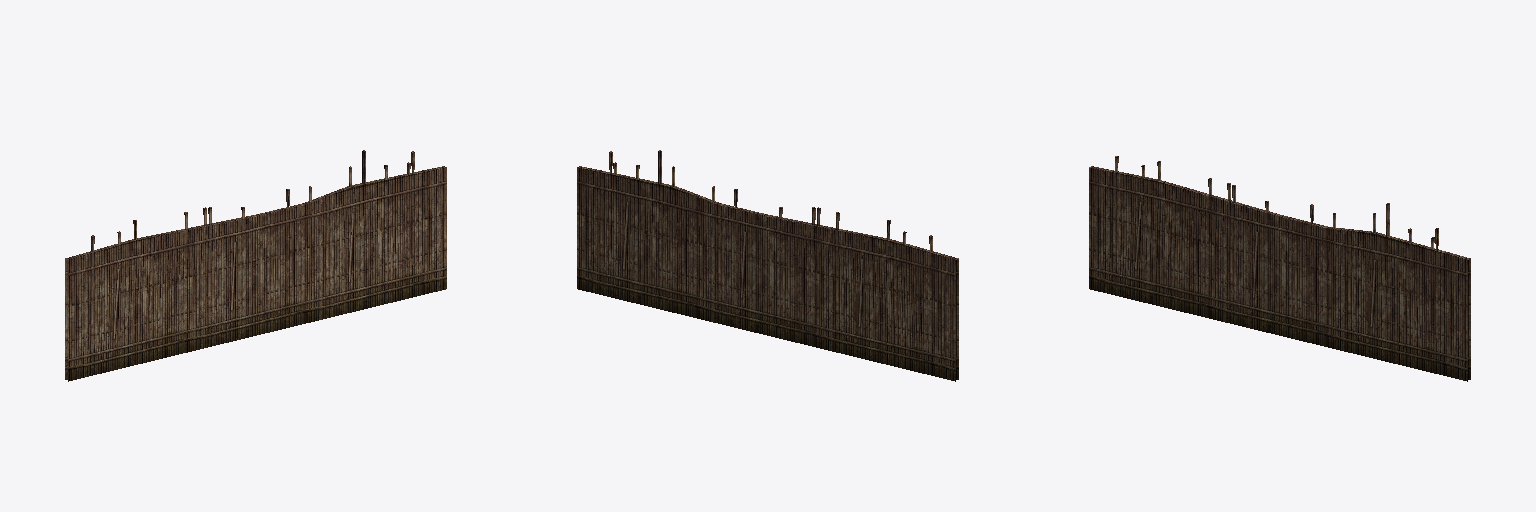
3 views of the same model, side by side, from view 1: azimuth 30°, elevation 25°; view 2: azimuth 150°, elevation 25°; view 3: azimuth 330°, elevation 25° (orthographic).
Parts seen in each view (by area): view 1: bsth_bc_pj_005; view 2: bsth_bc_pj_005; view 3: bsth_bc_pj_005.
Boxes of the visible parts, <box> form: bsth_bc_pj_005: <box>65,150,446,381</box>; bsth_bc_pj_005: <box>577,150,958,381</box>; bsth_bc_pj_005: <box>1089,156,1470,381</box>.
Size of the model in its own units: 25.68 by 10.19 by 0.26.
1 materials, 1 textured.